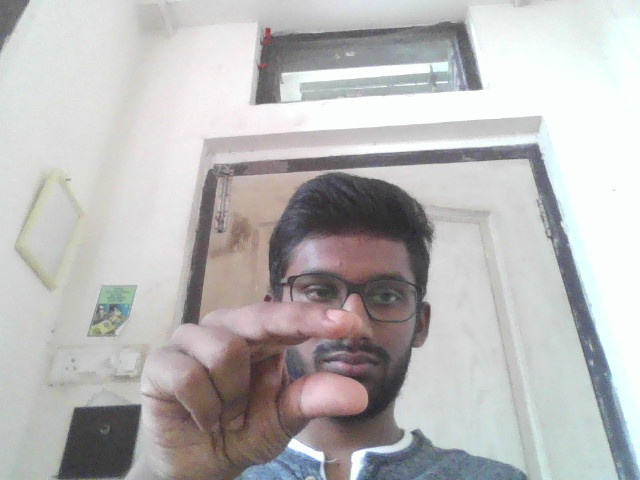No: (110, 298, 374, 473)
